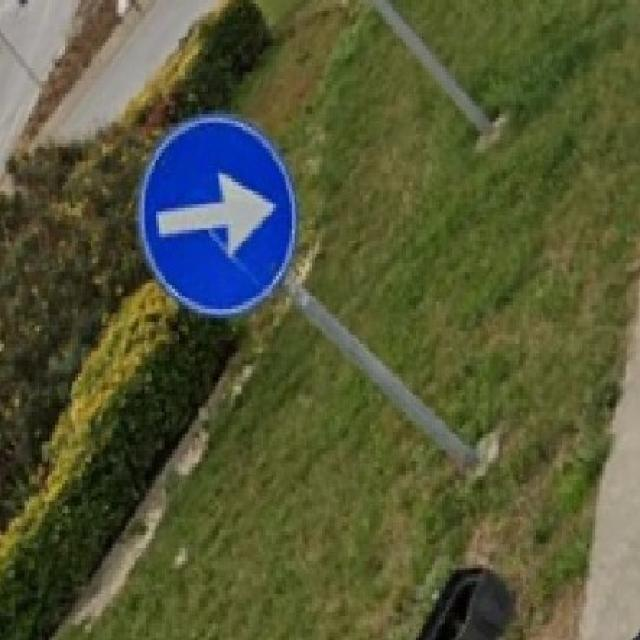Turn Right: (136, 127, 307, 309)
